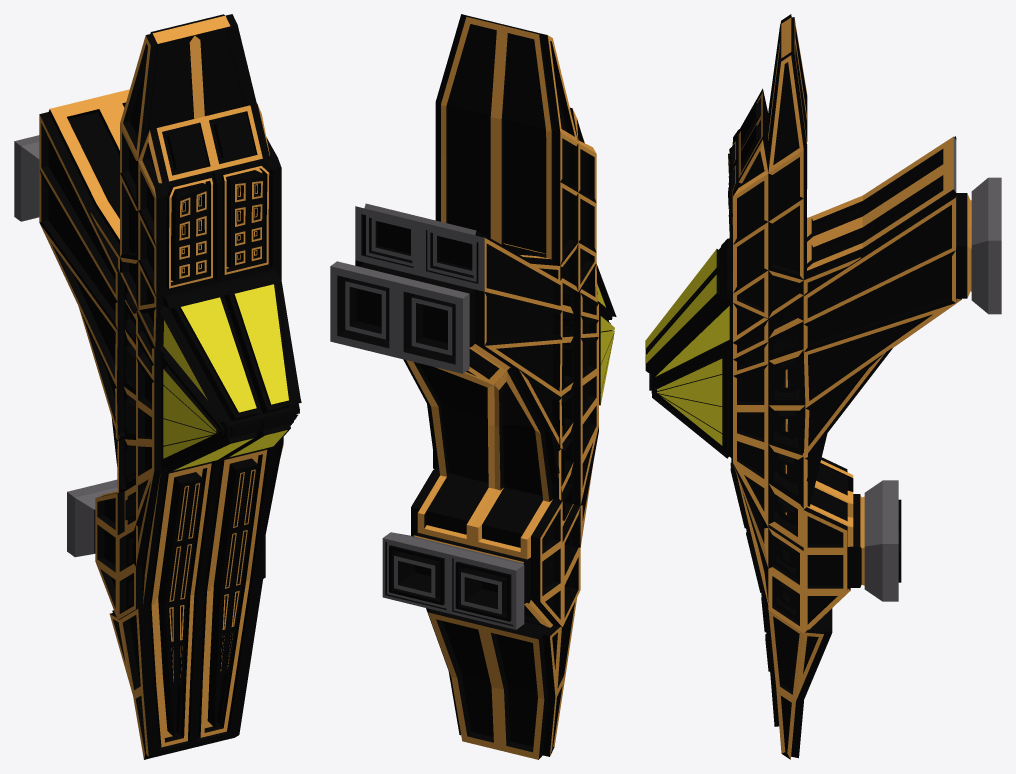
Rendered from NAVEBOSS.fbx.
3 renders of one model, left to right at view 1: azimuth 30°, elevation 25°; view 2: azimuth 150°, elevation 25°; view 3: azimuth 270°, elevation 25°, orthographic. The views are drawn at different scales.
Parts seen in each view (by area): view 1: Cube; view 2: Cube; view 3: Cube.
Part boxes in pixels (left/top/right/bottom): Cube: left=14, top=14, right=301, bottom=759; Cube: left=330, top=14, right=616, bottom=759; Cube: left=645, top=14, right=1001, bottom=759.
Bounding box in the file's own units: 98.75 × 511 × 234.
